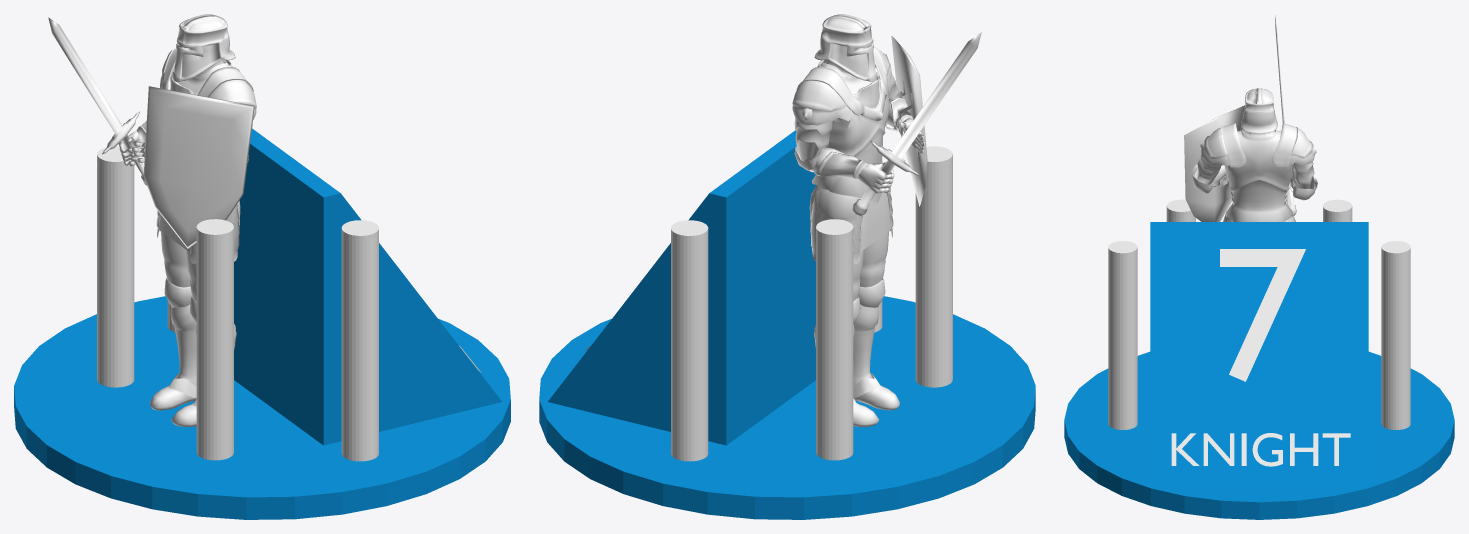
The model's file is TCKnight7.fbx.
The picture shows the model from 3 angles, left to right: view 1: azimuth 30°, elevation 25°; view 2: azimuth 150°, elevation 25°; view 3: azimuth 270°, elevation 25°; orthographic projection. The views are drawn at different scales.
Visible parts, largest first — view 1: Knight7; view 2: Knight7; view 3: Knight7.
Part boxes in pixels (<box>): Knight7: <box>14,14,510,519</box>; Knight7: <box>539,14,1035,519</box>; Knight7: <box>1064,15,1454,519</box>.
Bounding box in the file's own units: 180 × 176 × 180.
